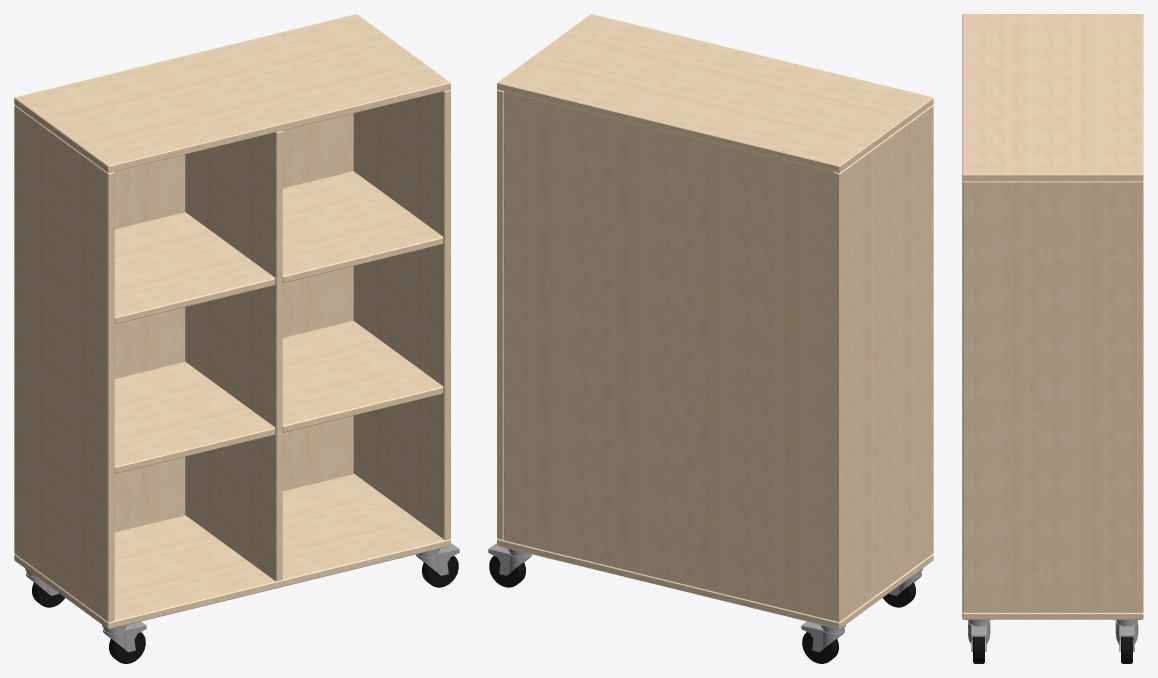
File: Furniture_Shelving-Storage_ABA-Skol_Cabinet-Max-with-back-and-boxes-80-x-113.fbx
The picture shows the model from 3 angles, left to right: view 1: azimuth 30°, elevation 25°; view 2: azimuth 150°, elevation 25°; view 3: azimuth 270°, elevation 25°; orthographic projection. The views are drawn at different scales.
Visible parts, largest first — view 1: L_a2a13e7f_0258_4006_8d18_ffc826ba709c_C1_I17, L_6a8f9bed_f774_427a_88e0_270d3c538c18_C1_I13, L_4f7110ad_d871_4925_9800_e169617ba17e_C1_I10, L_38467799_0ab5_4d8d_ae35_eda632c056a0_C1_I7, L_1b5990df_eb62_4650_8c19_d8bc3902d5b8_C1_I3, L_cb09ede8_4009_45d5_8439_04a04b7f9bab_C1_I20, L_2dd1f6e1_ff56_45b6_a379_564266d5e061_C1_I5, L_13f53c9a_a253_4aa6_9fd9_72fd0175075b_C1_I1, L_8a999312_f707_4e0e_a9b1_b52c9adb7006_C1_I15, L_80dfd085_02d6_4515_8832_8337d6bcff74_C1_I14, L_b6f1970d_35cc_4ff5_b4ed_4bf122eaebc7_I19, L_31a811a4_2841_4ff1_a12a_06057851c007_I6; view 2: L_1b5990df_eb62_4650_8c19_d8bc3902d5b8_C1_I3, L_a2a13e7f_0258_4006_8d18_ffc826ba709c_C1_I17, L_6a8f9bed_f774_427a_88e0_270d3c538c18_C1_I13, L_cb09ede8_4009_45d5_8439_04a04b7f9bab_C1_I20, L_38467799_0ab5_4d8d_ae35_eda632c056a0_C1_I7, L_62e80f06_75a3_4ca7_8e05_a2e6db635402_I11, L_3f14b9b2_9661_42be_977b_433044f0003a_I8; view 3: L_38467799_0ab5_4d8d_ae35_eda632c056a0_C1_I7, L_6a8f9bed_f774_427a_88e0_270d3c538c18_C1_I13, L_cb09ede8_4009_45d5_8439_04a04b7f9bab_C1_I20, L_3f14b9b2_9661_42be_977b_433044f0003a_I8, L_31a811a4_2841_4ff1_a12a_06057851c007_I6, L_4ccd0eea_6767_4746_a05e_b205527a001b_I9, L_f2eb5b93_ba47_4b5d_aabf_9b146fae3cd0_I22.
Part boxes in pixels (x1,y1,x2,y2): L_a2a13e7f_0258_4006_8d18_ffc826ba709c_C1_I17: (14,105,114,621); L_6a8f9bed_f774_427a_88e0_270d3c538c18_C1_I13: (14,14,450,172); L_4f7110ad_d871_4925_9800_e169617ba17e_C1_I10: (185,130,282,581); L_38467799_0ab5_4d8d_ae35_eda632c056a0_C1_I7: (353,90,450,539); L_1b5990df_eb62_4650_8c19_d8bc3902d5b8_C1_I3: (114,113,353,532); L_cb09ede8_4009_45d5_8439_04a04b7f9bab_C1_I20: (14,474,450,629); L_2dd1f6e1_ff56_45b6_a379_564266d5e061_C1_I5: (282,171,443,283); L_13f53c9a_a253_4aa6_9fd9_72fd0175075b_C1_I1: (282,321,443,432); L_8a999312_f707_4e0e_a9b1_b52c9adb7006_C1_I15: (114,212,275,324); L_80dfd085_02d6_4515_8832_8337d6bcff74_C1_I14: (114,362,275,473); L_b6f1970d_35cc_4ff5_b4ed_4bf122eaebc7_I19: (103,621,146,652); L_31a811a4_2841_4ff1_a12a_06057851c007_I6: (416,543,459,575); L_1b5990df_eb62_4650_8c19_d8bc3902d5b8_C1_I3: (504,91,833,620); L_a2a13e7f_0258_4006_8d18_ffc826ba709c_C1_I17: (833,105,933,621); L_6a8f9bed_f774_427a_88e0_270d3c538c18_C1_I13: (497,14,933,172); L_cb09ede8_4009_45d5_8439_04a04b7f9bab_C1_I20: (497,539,933,629); L_38467799_0ab5_4d8d_ae35_eda632c056a0_C1_I7: (497,90,503,539); L_62e80f06_75a3_4ca7_8e05_a2e6db635402_I11: (801,621,844,652); L_3f14b9b2_9661_42be_977b_433044f0003a_I8: (488,543,531,575); L_38467799_0ab5_4d8d_ae35_eda632c056a0_C1_I7: (962,181,1143,612); L_6a8f9bed_f774_427a_88e0_270d3c538c18_C1_I13: (962,14,1143,181); L_cb09ede8_4009_45d5_8439_04a04b7f9bab_C1_I20: (962,612,1143,619); L_3f14b9b2_9661_42be_977b_433044f0003a_I8: (1115,620,1138,651); L_31a811a4_2841_4ff1_a12a_06057851c007_I6: (968,620,990,651); L_4ccd0eea_6767_4746_a05e_b205527a001b_I9: (1121,637,1132,663); L_f2eb5b93_ba47_4b5d_aabf_9b146fae3cd0_I22: (973,637,984,663).
Size of the model in its own units: 830 by 380 by 1130.
3 materials, 1 textured.
